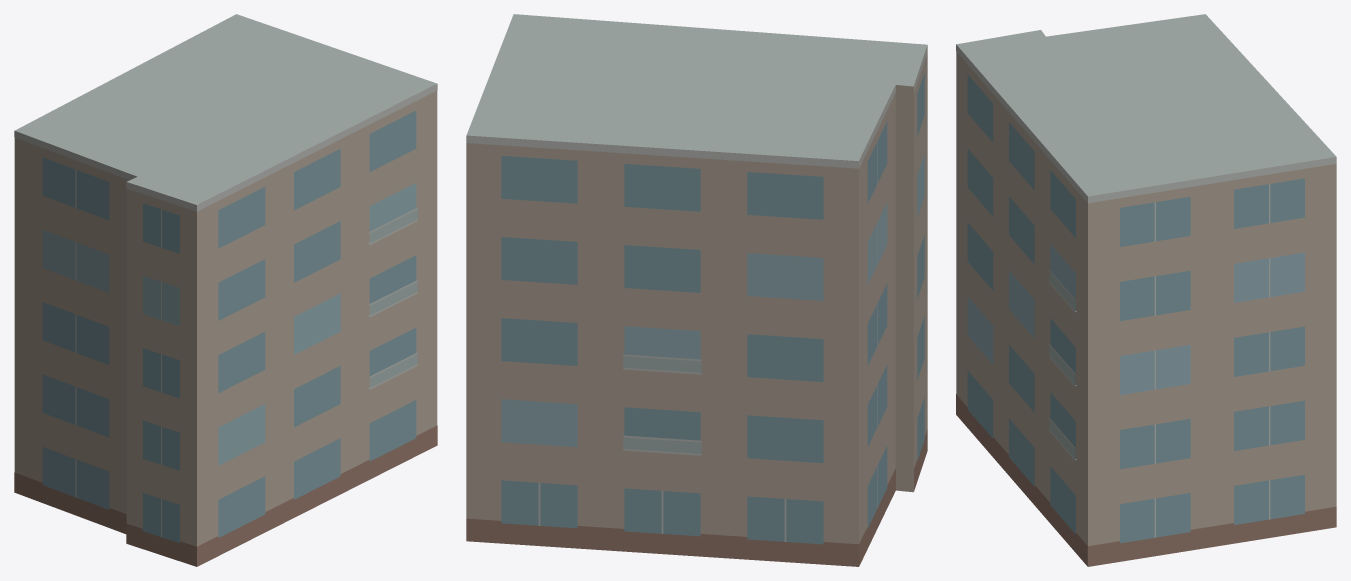
Rendered from survey-upis-32952347.glb.
3 renders of one model, left to right at view 1: azimuth 30°, elevation 25°; view 2: azimuth 150°, elevation 25°; view 3: azimuth 270°, elevation 25°, orthographic. The views are drawn at different scales.
Parts seen in each view (by area): view 1: survey-upis-32952347.tmp; view 2: survey-upis-32952347.tmp; view 3: survey-upis-32952347.tmp.
Boxes of the visible parts, x1,y1,x2,y2 form: survey-upis-32952347.tmp: (14,14,437,566); survey-upis-32952347.tmp: (466,14,927,566); survey-upis-32952347.tmp: (956,14,1336,566).
Bounding box in the file's own units: 13.96 × 13.2 × 12.3.
